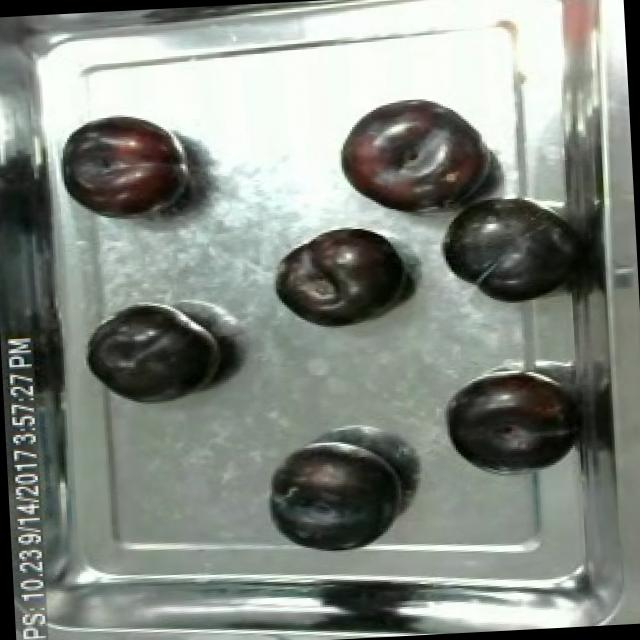Fruit: (328, 90, 502, 226), (430, 184, 585, 312), (434, 361, 579, 482), (262, 440, 409, 559), (266, 222, 417, 336), (53, 108, 195, 225), (81, 300, 222, 410)
